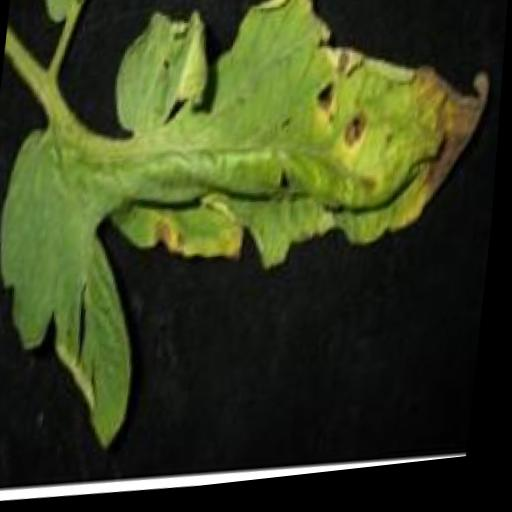Bacterial Spot: (94, 0, 502, 299)
